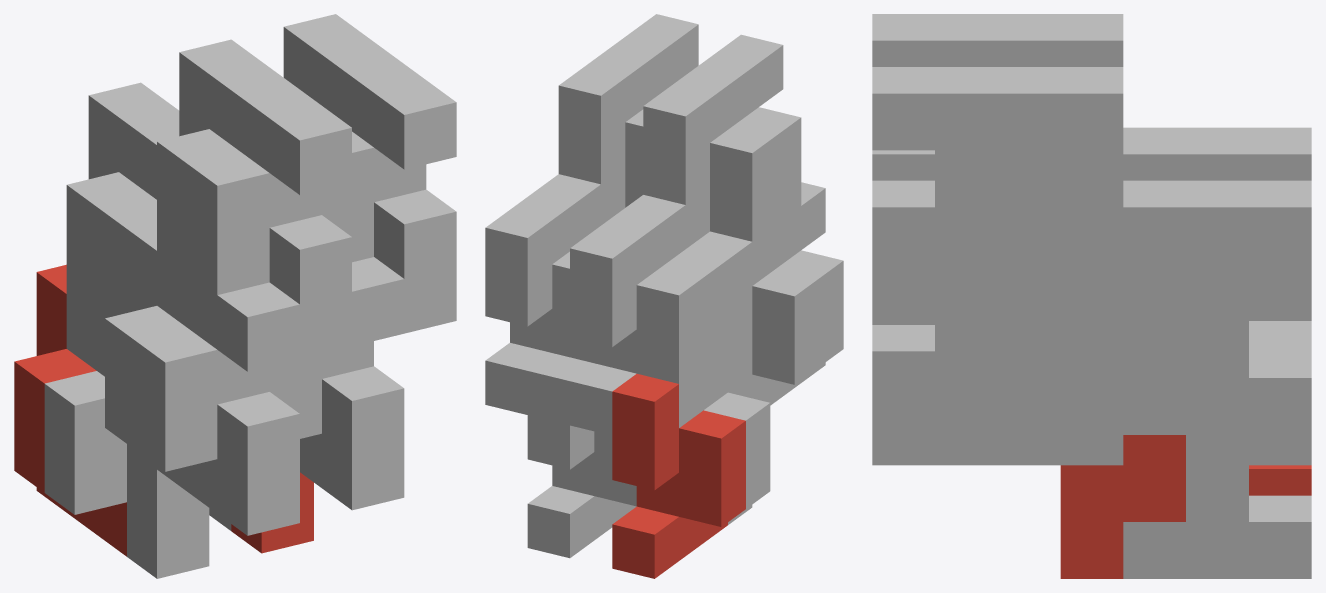
The model's file is tiling.obj.
The picture shows the model from 3 angles, left to right: view 1: azimuth 30°, elevation 25°; view 2: azimuth 150°, elevation 25°; view 3: azimuth 270°, elevation 25°; orthographic projection. The views are drawn at different scales.
Parts seen in each view (by area): view 1: copy_2_domain_4, copy_2_domain_2, copy_2_domain_8, copy_2_domain_1, copy_2_domain_6, copy_1_domain_1, copy_1_domain_2, copy_1_domain_3, copy_1_domain_4, copy_2_domain_3, copy_1_domain_8, copy_2_domain_5 (+1 smaller); view 2: copy_1_domain_1, copy_1_domain_3, copy_1_domain_4, copy_1_domain_5, copy_1_domain_7, copy_1_domain_2, copy_2_domain_4, copy_1_domain_8, copy_2_domain_3, copy_2_domain_2, copy_2_domain_1, copy_2_domain_8 (+1 smaller); view 3: copy_2_domain_8, copy_2_domain_7, copy_1_domain_7, copy_1_domain_8, copy_1_domain_5, copy_1_domain_6, copy_2_domain_6, copy_2_domain_5, copy_2_domain_4, copy_2_domain_3, copy_1_domain_3, copy_1_domain_4 (+1 smaller).
Boxes of the visible parts, x1,y1,x2,y2 form: copy_2_domain_4: (187,61,351,358); copy_2_domain_2: (135,251,299,535); copy_2_domain_8: (314,36,456,333); copy_2_domain_1: (44,294,209,578); copy_2_domain_6: (269,257,404,510); copy_1_domain_1: (14,264,126,556); copy_1_domain_2: (105,221,217,513); copy_1_domain_3: (66,82,170,315); copy_1_domain_4: (157,39,261,272); copy_2_domain_3: (97,104,179,321); copy_1_domain_8: (283,14,365,99); copy_2_domain_5: (231,472,313,553); copy_1_domain_1: (612,374,745,578); copy_1_domain_3: (570,230,703,435); copy_1_domain_4: (643,88,776,241); copy_1_domain_5: (527,353,636,558); copy_1_domain_7: (485,210,594,414); copy_1_domain_2: (686,231,818,405); copy_2_domain_4: (668,34,801,223); copy_1_domain_8: (558,67,643,207); copy_2_domain_3: (594,187,727,365); copy_2_domain_2: (752,182,843,382); copy_2_domain_1: (679,331,770,524); copy_2_domain_8: (583,14,698,121); copy_2_domain_8: (872,67,1060,320); copy_2_domain_7: (1060,180,1248,434); copy_1_domain_7: (1123,180,1311,434); copy_1_domain_8: (935,67,1123,320); copy_1_domain_5: (1123,325,1311,578); copy_1_domain_6: (935,321,1123,465); copy_2_domain_6: (872,321,997,465); copy_2_domain_5: (1060,435,1185,578); copy_2_domain_4: (872,14,1060,180); copy_2_domain_3: (1123,127,1248,180); copy_1_domain_3: (1249,127,1311,324); copy_1_domain_4: (1060,14,1123,66).
Size of the model in its own units: 5 by 9 by 7.
